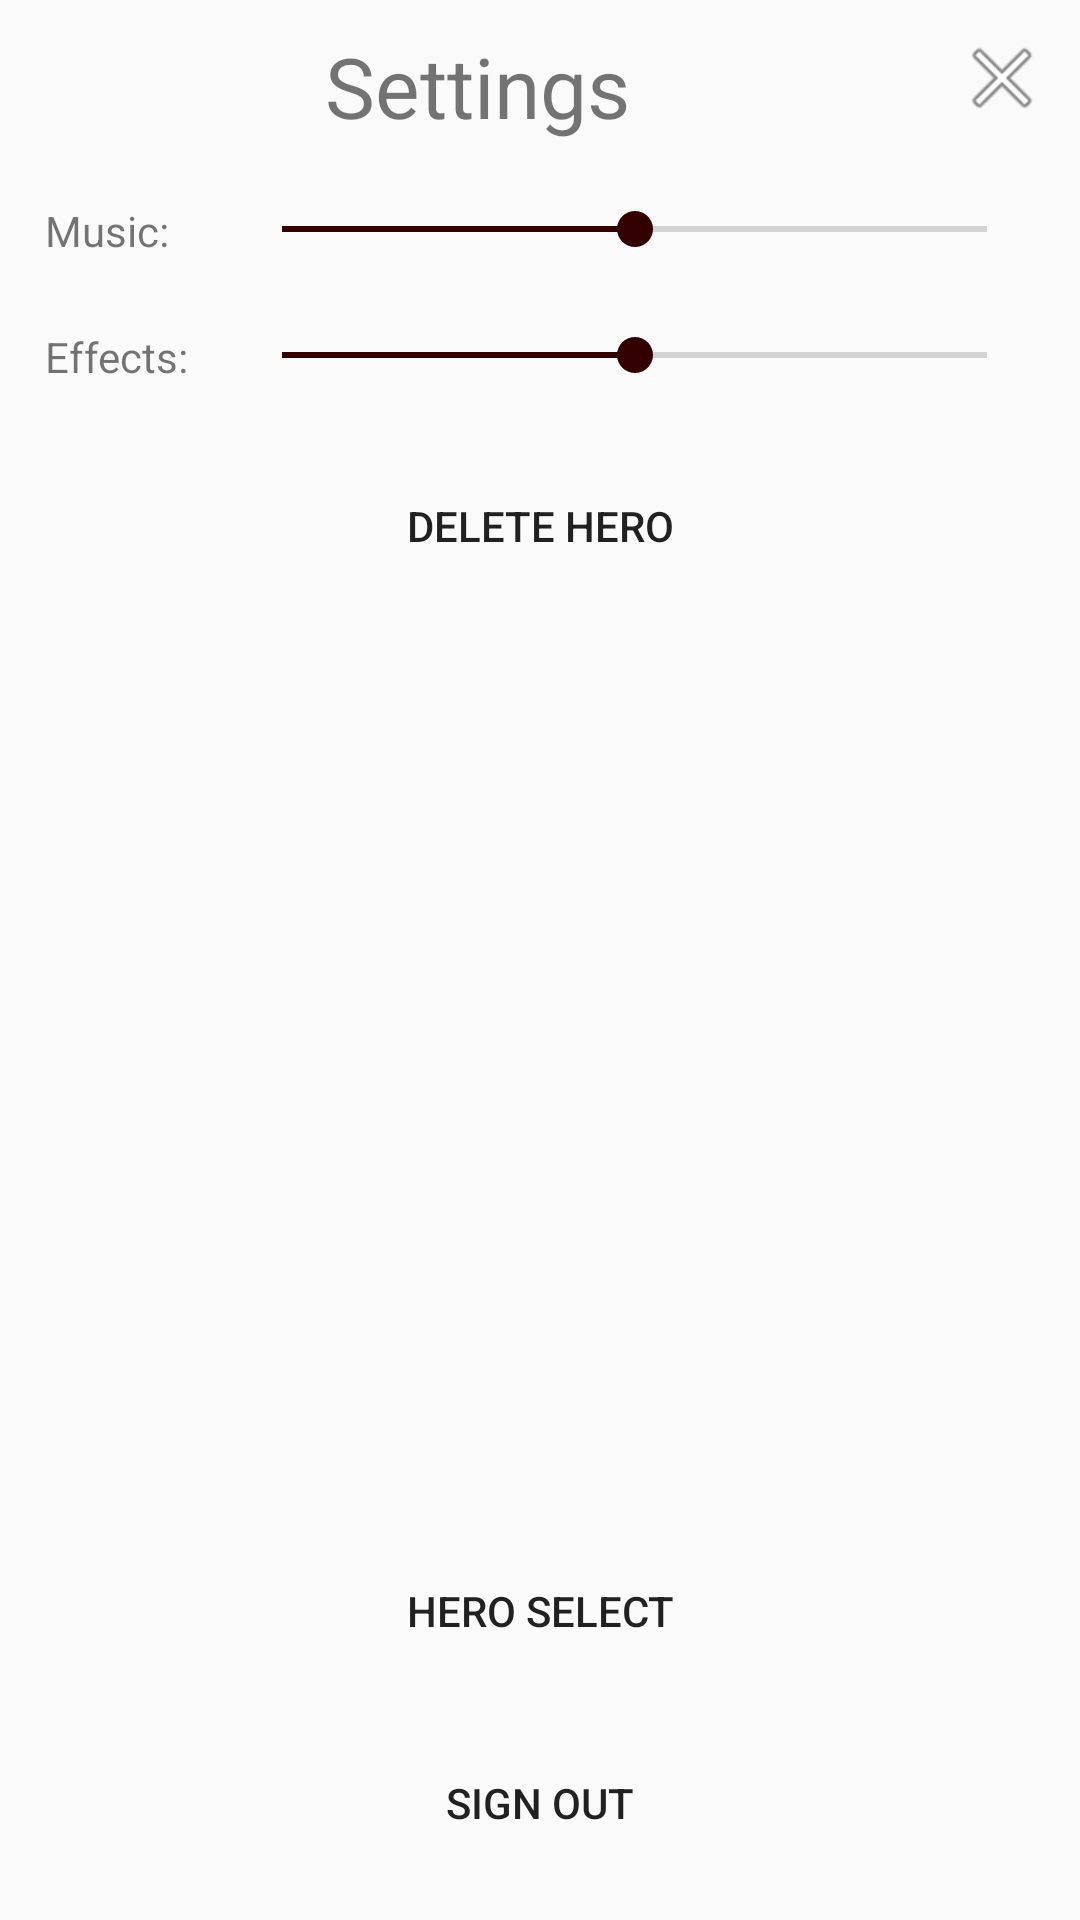

Point at icon controls on the screen. Image size 1080px×1920px, points as (x=x, y=y).
Button to close current screen: (x=1002, y=78)
